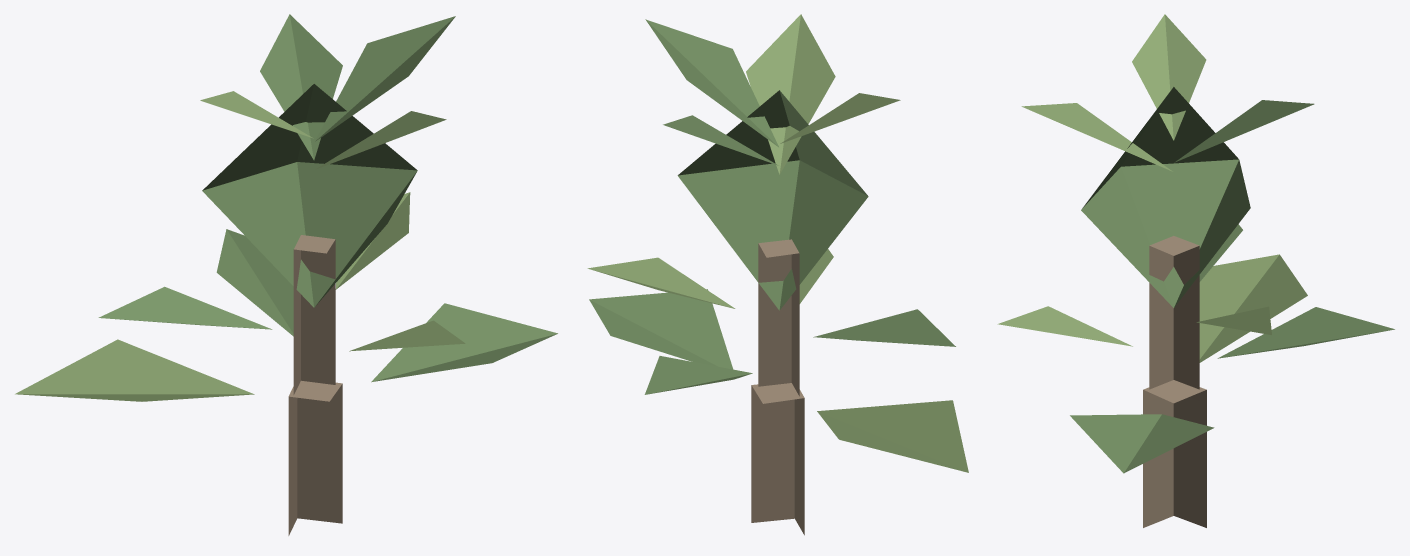
The model's file is shu.gaoshan@seedling__summer.glb.
3 renders of one model, left to right at view 1: azimuth 30°, elevation 25°; view 2: azimuth 150°, elevation 25°; view 3: azimuth 270°, elevation 25°, orthographic.
Parts seen in each view (by area): view 1: shu.gaoshan@seedling__summer; view 2: shu.gaoshan@seedling__summer; view 3: shu.gaoshan@seedling__summer.
Part boxes in pixels (box(x1,y1,x2,y2)): shu.gaoshan@seedling__summer: box(15, 14, 557, 535); shu.gaoshan@seedling__summer: box(587, 14, 968, 535); shu.gaoshan@seedling__summer: box(997, 14, 1394, 527).
Size of the model in its own units: 1.52 by 1.51 by 1.14.
